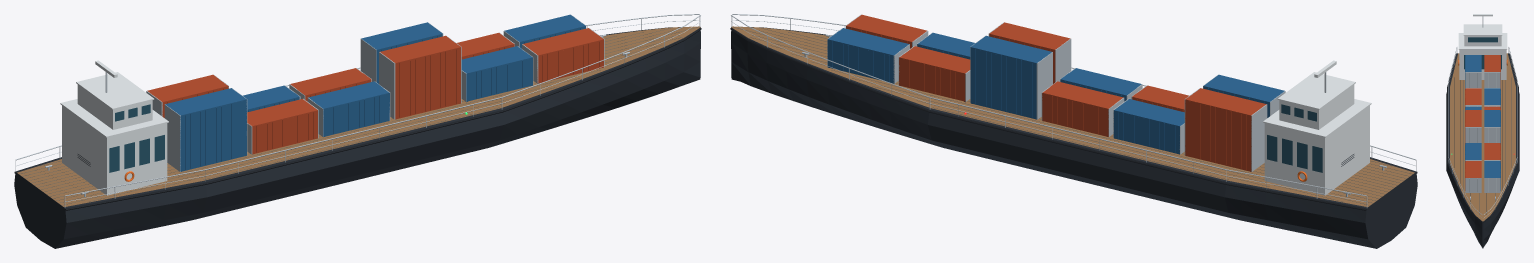
The model's file is barge_lod0.glb.
The picture shows the model from 3 angles, left to right: view 1: azimuth 30°, elevation 25°; view 2: azimuth 150°, elevation 25°; view 3: azimuth 270°, elevation 25°; orthographic projection. The views are drawn at different scales.
Parts seen in each view (by area): view 1: body; view 2: body; view 3: body.
Boxes of the visible parts, left/top/right/bottom form: body: left=14, top=14, right=701, bottom=248; body: left=730, top=14, right=1417, bottom=248; body: left=1446, top=14, right=1519, bottom=248.
Size of the model in its own units: 60.06 by 13.61 by 11.
